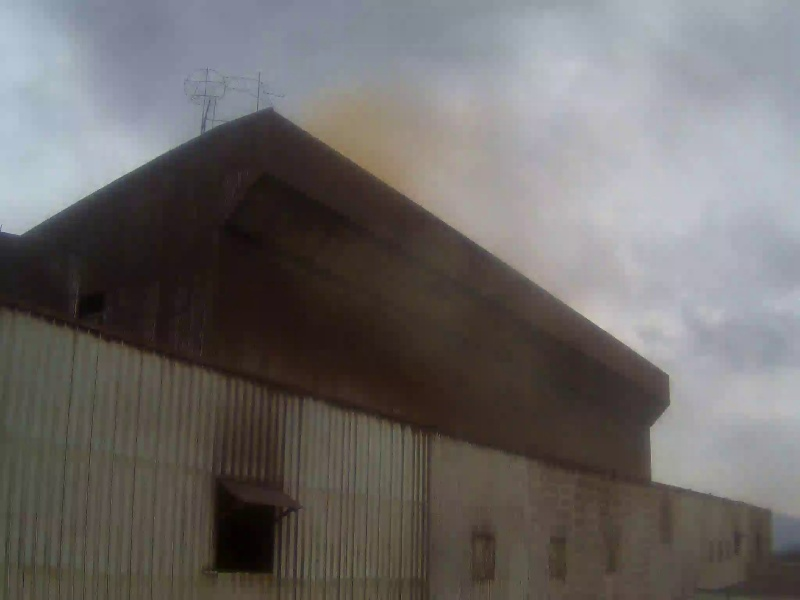ruim: (291, 80, 556, 288)
